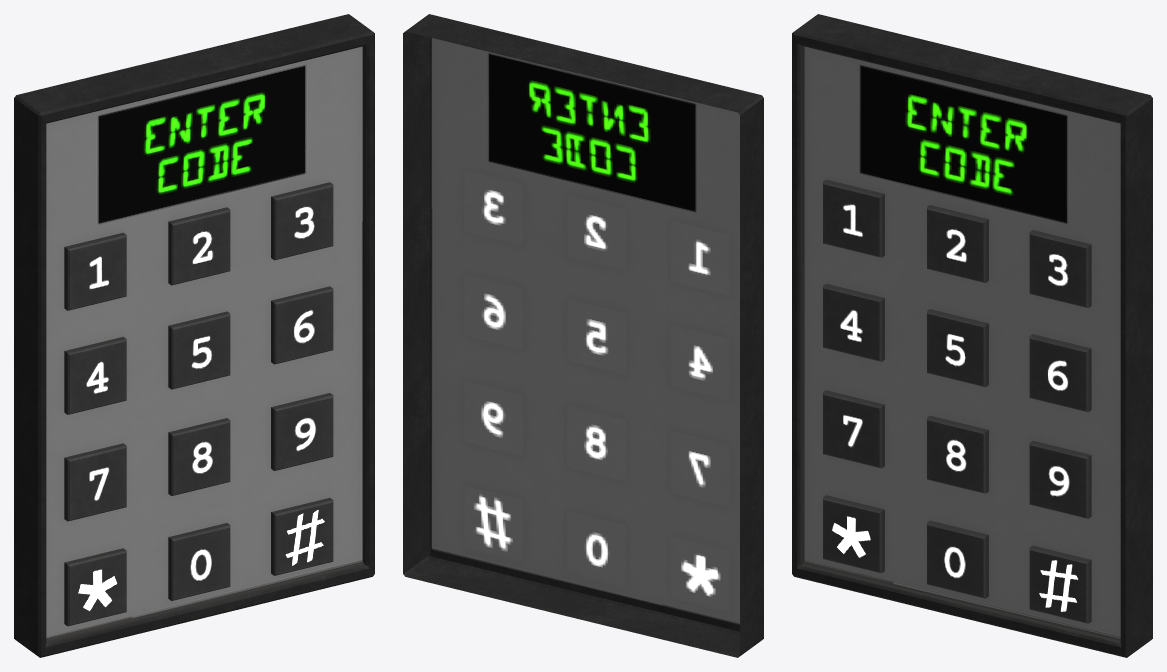
File: security_pin_pad.glb
3 renders of one model, left to right at view 1: azimuth 30°, elevation 25°; view 2: azimuth 150°, elevation 25°; view 3: azimuth 330°, elevation 25°, orthographic.
Visible parts, largest first — view 1: Object_2; view 2: Object_2; view 3: Object_2.
Part boxes in pixels (bbox=[...]): Object_2: bbox=[14, 14, 374, 657]; Object_2: bbox=[403, 14, 763, 657]; Object_2: bbox=[792, 14, 1152, 657].
Bounding box in the file's own units: 8.58 × 13.27 × 1.1.
Materials: 1 (1 with a texture image).
